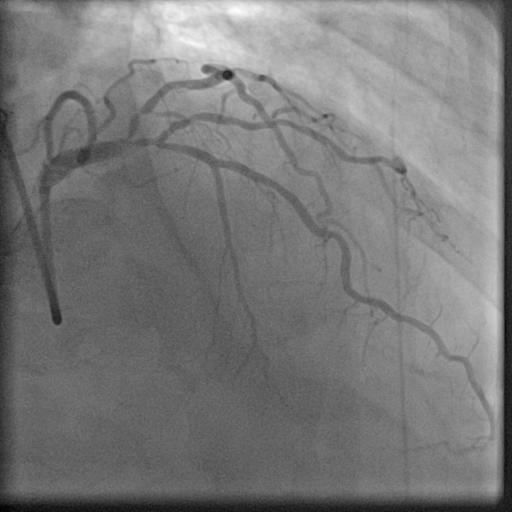Stenosis: (127, 103, 153, 119)
